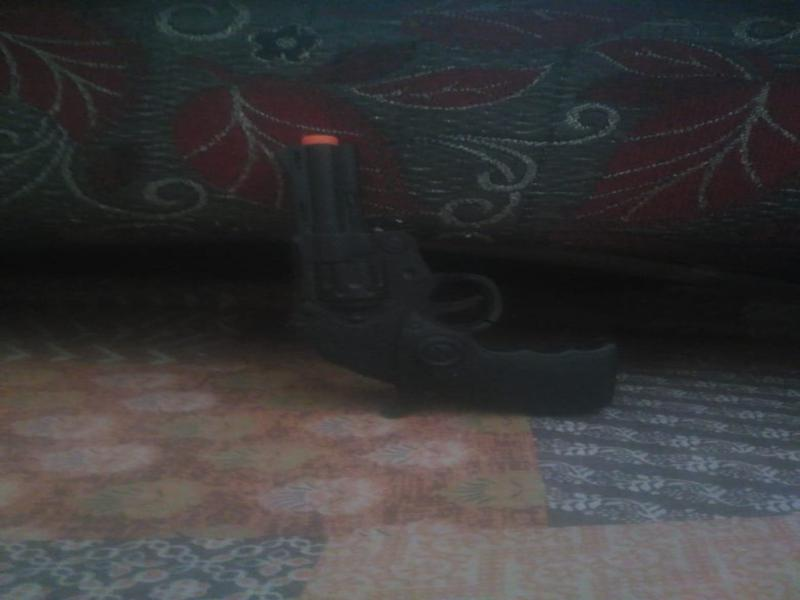gun: (256, 123, 631, 418)
